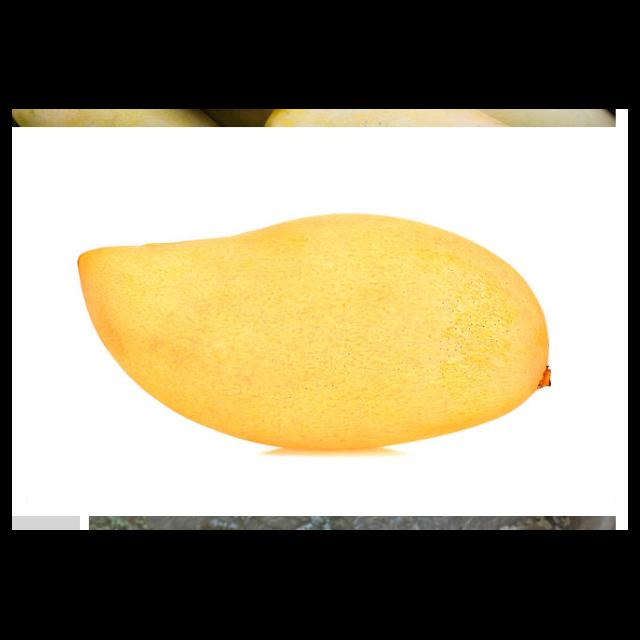mango: (75, 212, 550, 448)
